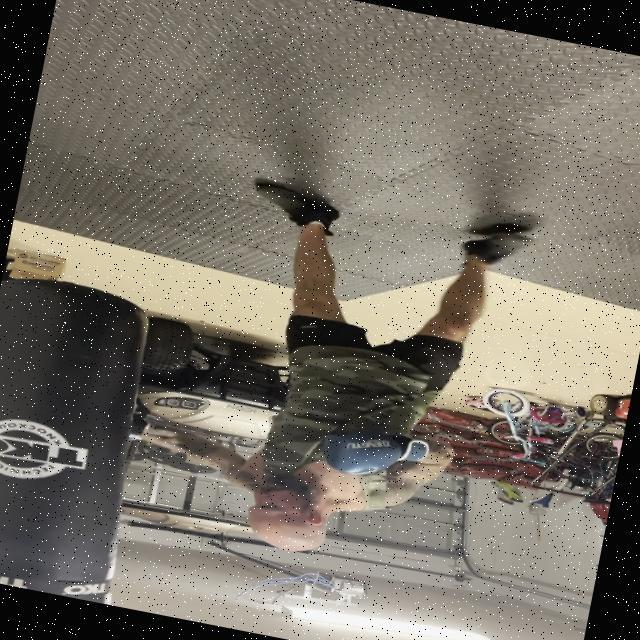punch: (86, 368, 458, 596)
